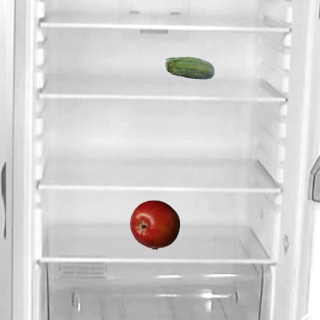Apple Braeburn: (129, 199, 179, 249)
Corn Husk: (164, 44, 214, 94)
